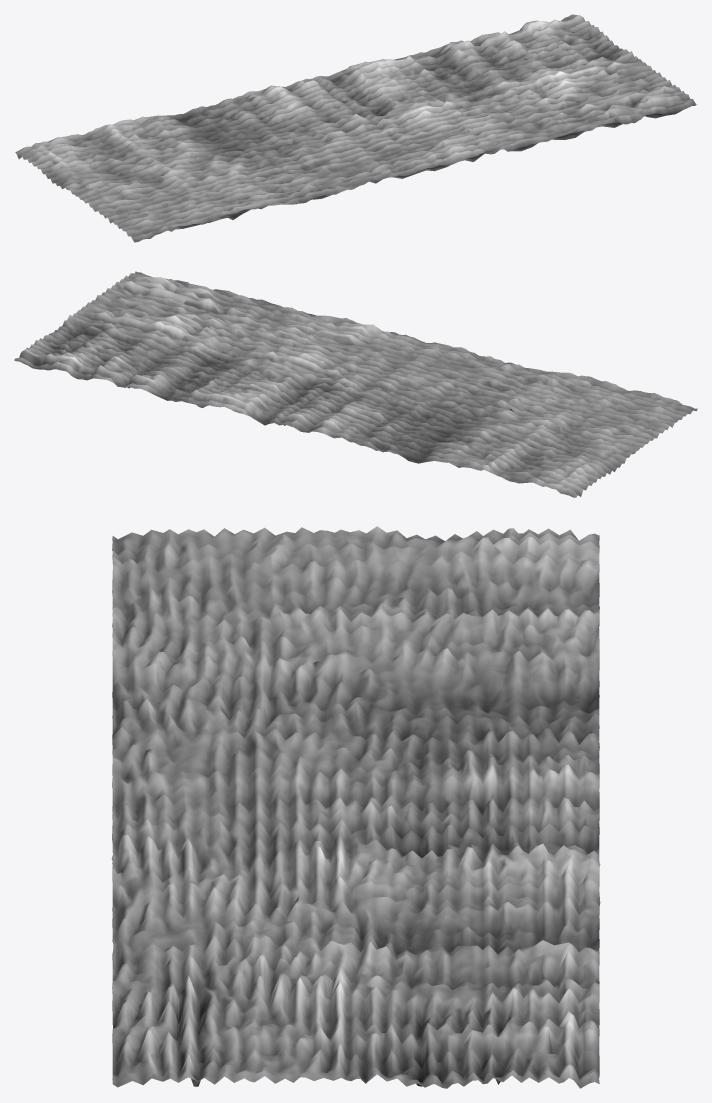
File: arena.glb
3 views of the same model, one above another, from view 1: azimuth 30°, elevation 25°; view 2: azimuth 150°, elevation 25°; view 3: azimuth 270°, elevation 25° (orthographic). The views are drawn at different scales.
Parts seen in each view (by area): view 1: ARENA_MODULO_WEB; view 2: ARENA_MODULO_WEB; view 3: ARENA_MODULO_WEB.
Boxes of the visible parts, x1,y1,x2,y2 form: ARENA_MODULO_WEB: [15, 14, 697, 242]; ARENA_MODULO_WEB: [14, 271, 697, 497]; ARENA_MODULO_WEB: [111, 526, 600, 1088].
Size of what is drawn, in the model's own units: 16.02 by 0.6098 by 6.02.
Materials: 1 (1 with a texture image).
